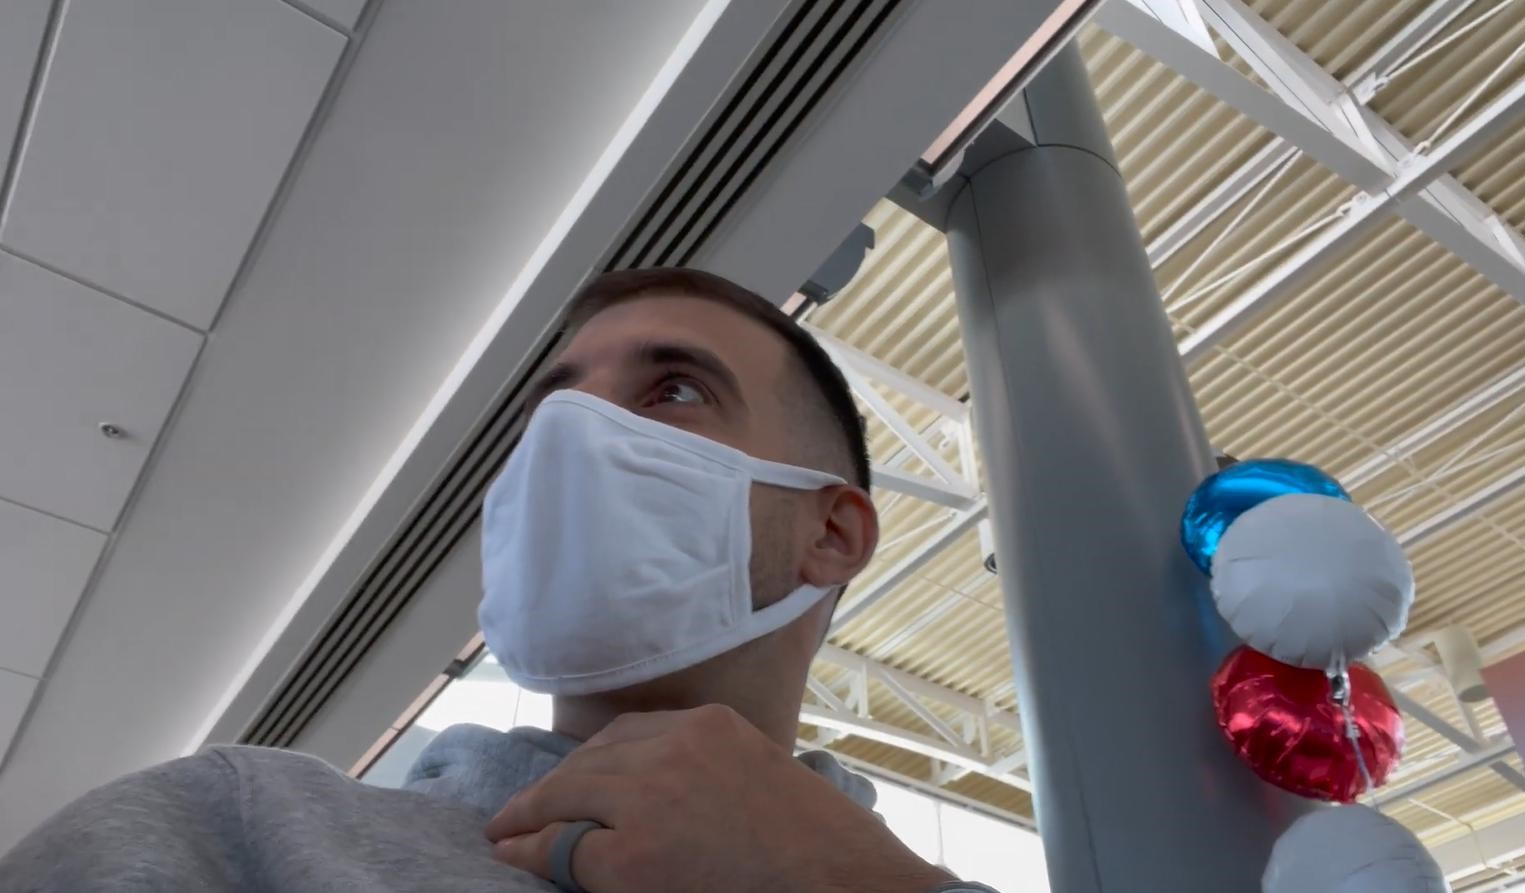with_mask: (534, 357, 769, 650)
